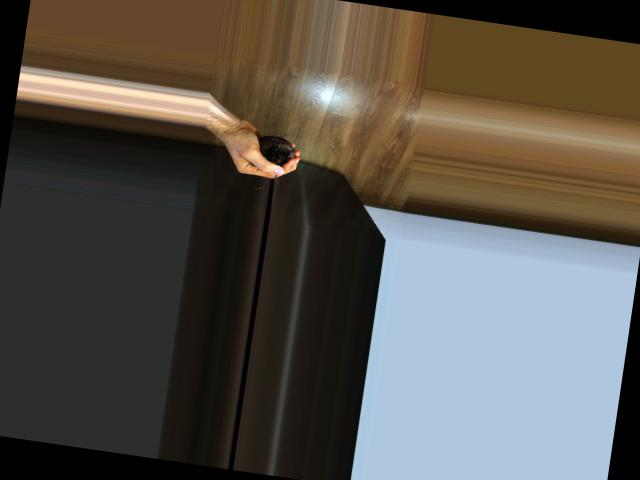beet: (251, 133, 298, 194)
